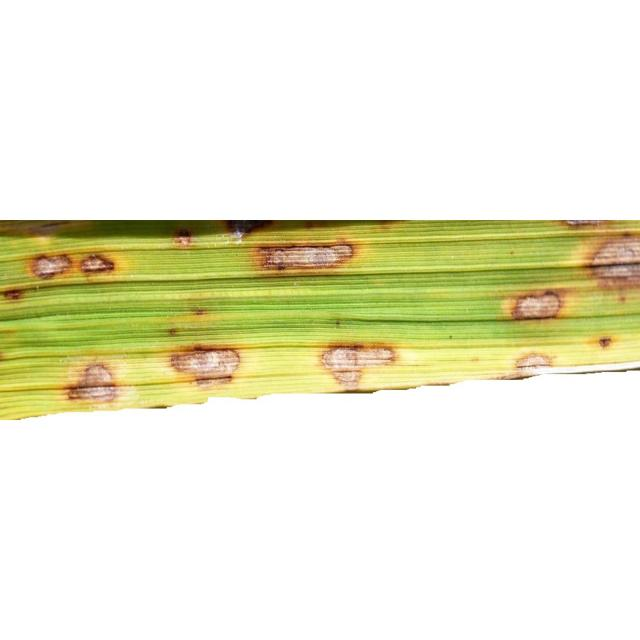Brown spot: (220, 220, 398, 290), (1, 229, 131, 289), (161, 339, 257, 392), (571, 220, 640, 291), (316, 332, 400, 388), (63, 360, 128, 410), (504, 281, 566, 325), (510, 344, 560, 374), (587, 329, 622, 349), (172, 228, 196, 254), (160, 322, 184, 338), (188, 304, 211, 316)
